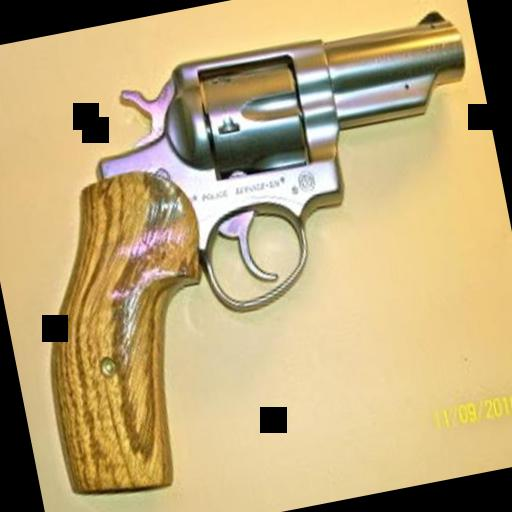Handgun: (0, 2, 512, 505)
